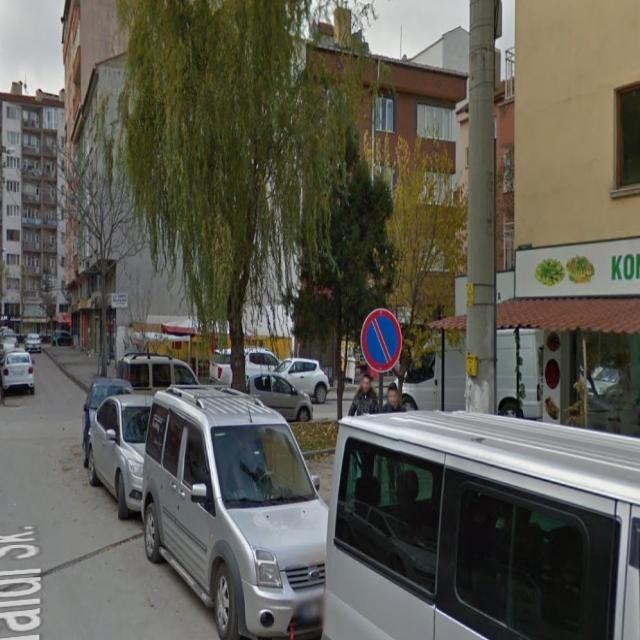parkyasak: (361, 308, 402, 371)
